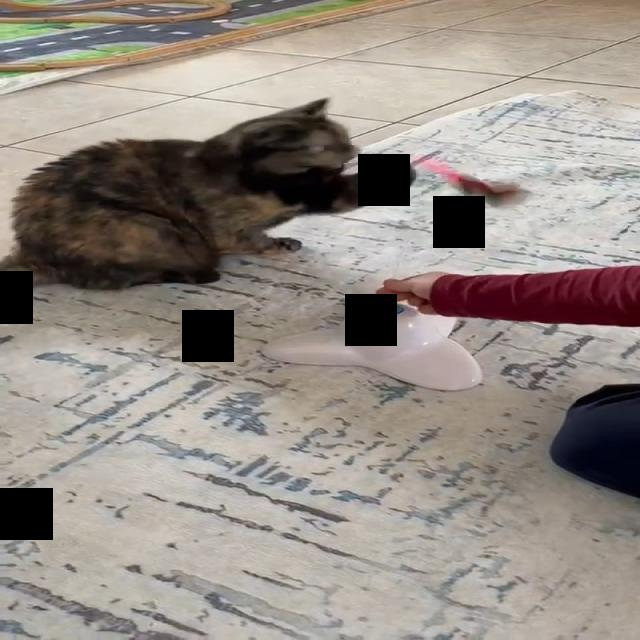authorized: (0, 96, 416, 293)
